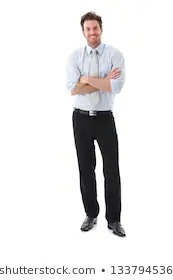F_belt: (72, 108, 113, 117)
F_dress pants: (70, 106, 122, 219)
F_shirt: (61, 41, 127, 112)
